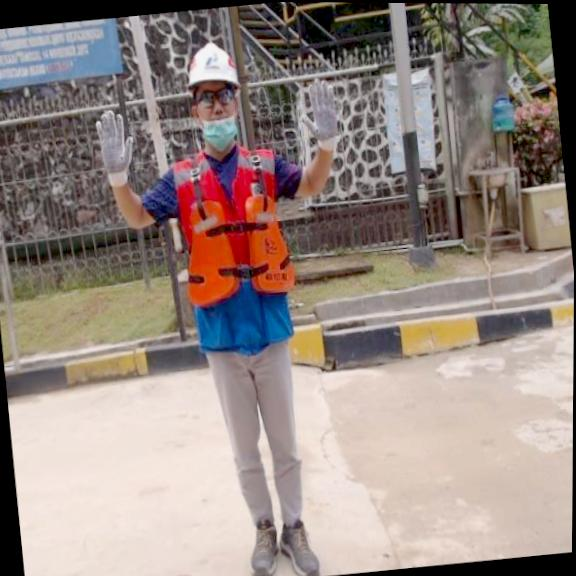safety_vest: (178, 190, 298, 311)
